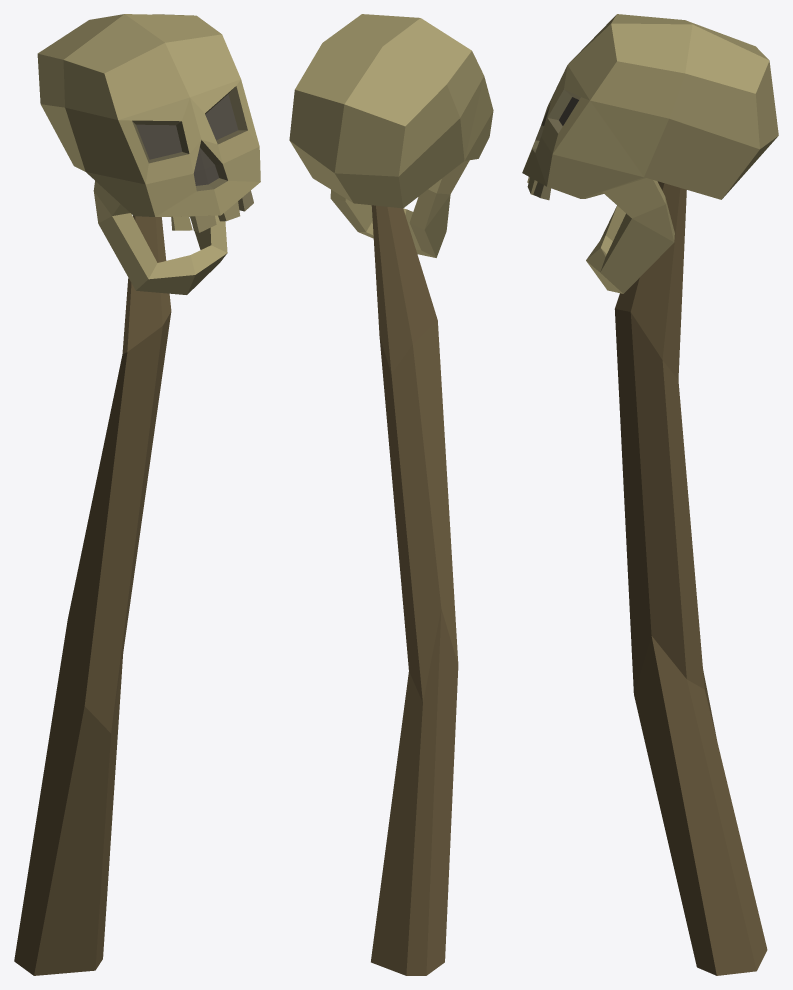
File: Skull_4.fbx
3 renders of one model, left to right at view 1: azimuth 30°, elevation 25°; view 2: azimuth 150°, elevation 25°; view 3: azimuth 270°, elevation 25°, orthographic. The views are drawn at different scales.
Visible parts, largest first — view 1: Scull_4; view 2: Scull_4; view 3: Scull_4.
Part boxes in pixels (bbox=[...]): Scull_4: bbox=[14, 14, 260, 975]; Scull_4: bbox=[289, 14, 493, 975]; Scull_4: bbox=[522, 14, 778, 975].
Size of the model in its own units: 20.3 by 115 by 27.9.
